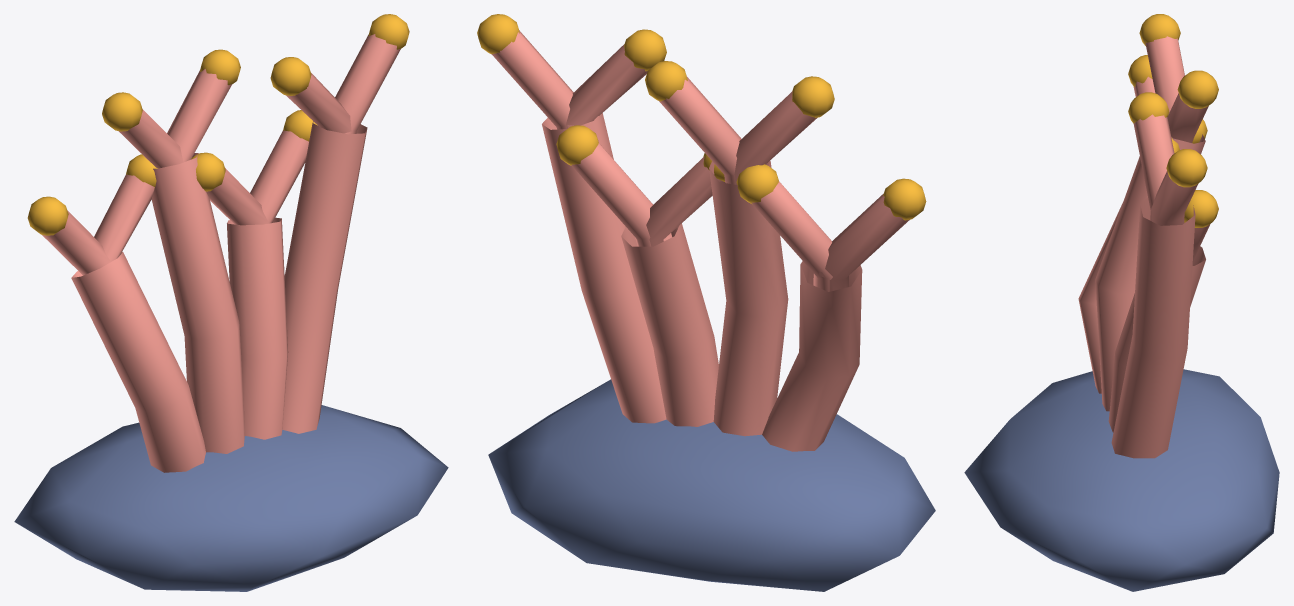
The model's file is r003_reef_coral_mass_placement_coral_01.glb.
3 views of the same model, side by side, from view 1: azimuth 30°, elevation 25°; view 2: azimuth 150°, elevation 25°; view 3: azimuth 270°, elevation 25° (orthographic). The views are drawn at different scales.
Parts seen in each view (by area): view 1: r003_reef_coral_mass_placement_coral_01.001; view 2: r003_reef_coral_mass_placement_coral_01.001; view 3: r003_reef_coral_mass_placement_coral_01.001.
Part boxes in pixels (x1,y1,x2,y2): r003_reef_coral_mass_placement_coral_01.001: (14,14,448,591); r003_reef_coral_mass_placement_coral_01.001: (477,14,935,591); r003_reef_coral_mass_placement_coral_01.001: (964,14,1279,591).
Bounding box in the file's own units: 2.82 × 3.25 × 1.98.
